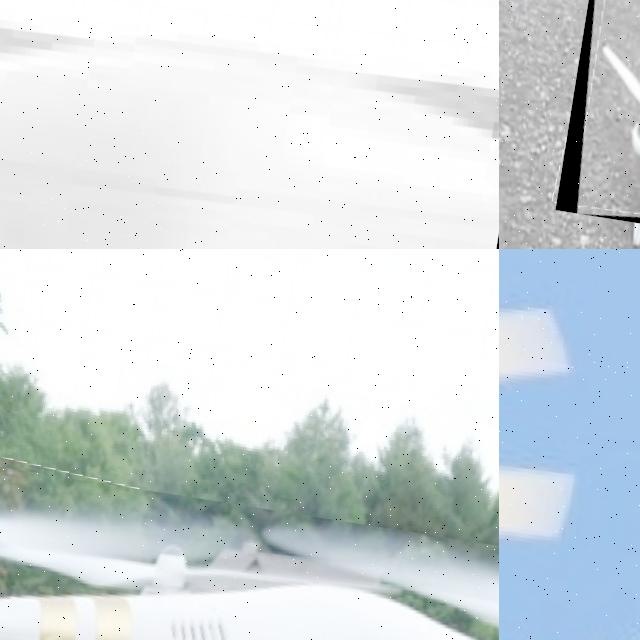0: (0, 461, 499, 640), (555, 0, 640, 236)
drone: (0, 0, 499, 249), (499, 249, 640, 640)
